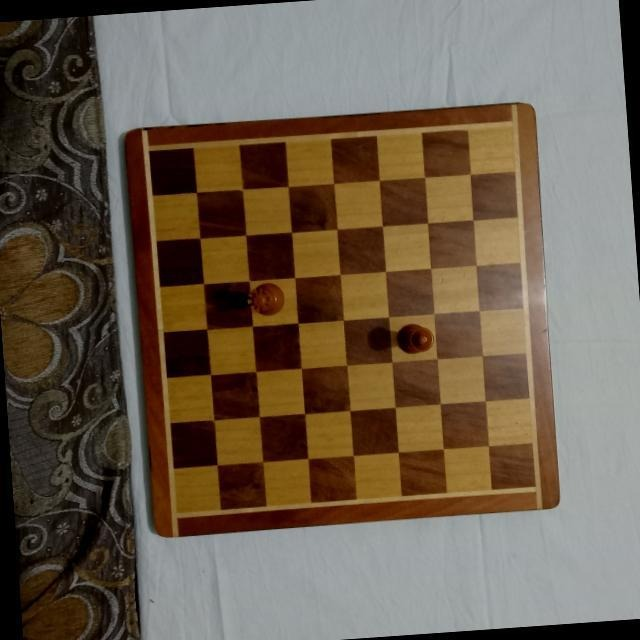white-king: (393, 319, 434, 356)
white-queen: (243, 280, 285, 317)
